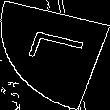L_E: (20, 33, 90, 77)
